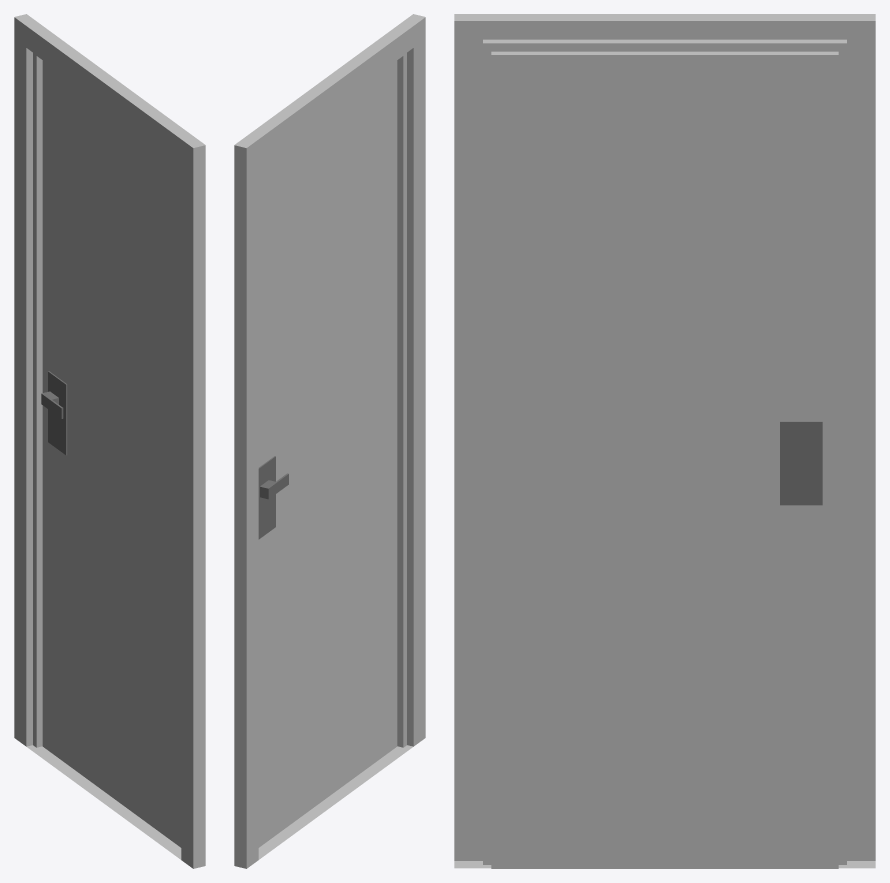
The model's file is FakeDoor.fbx.
3 views of the same model, side by side, from view 1: azimuth 30°, elevation 25°; view 2: azimuth 150°, elevation 25°; view 3: azimuth 270°, elevation 25° (orthographic). The views are drawn at different scales.
Visible parts, largest first — view 1: FakeDoor; view 2: FakeDoor; view 3: FakeDoor.
Boxes of the visible parts, box(x1,y1,x2,y2) form: FakeDoor: box(14, 14, 205, 868); FakeDoor: box(234, 14, 425, 868); FakeDoor: box(454, 14, 875, 868).
Size of the model in its own units: 3.85 by 200 by 90.05.
